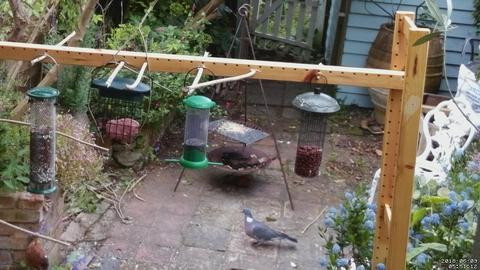wood pigeon: (240, 208, 298, 248)
